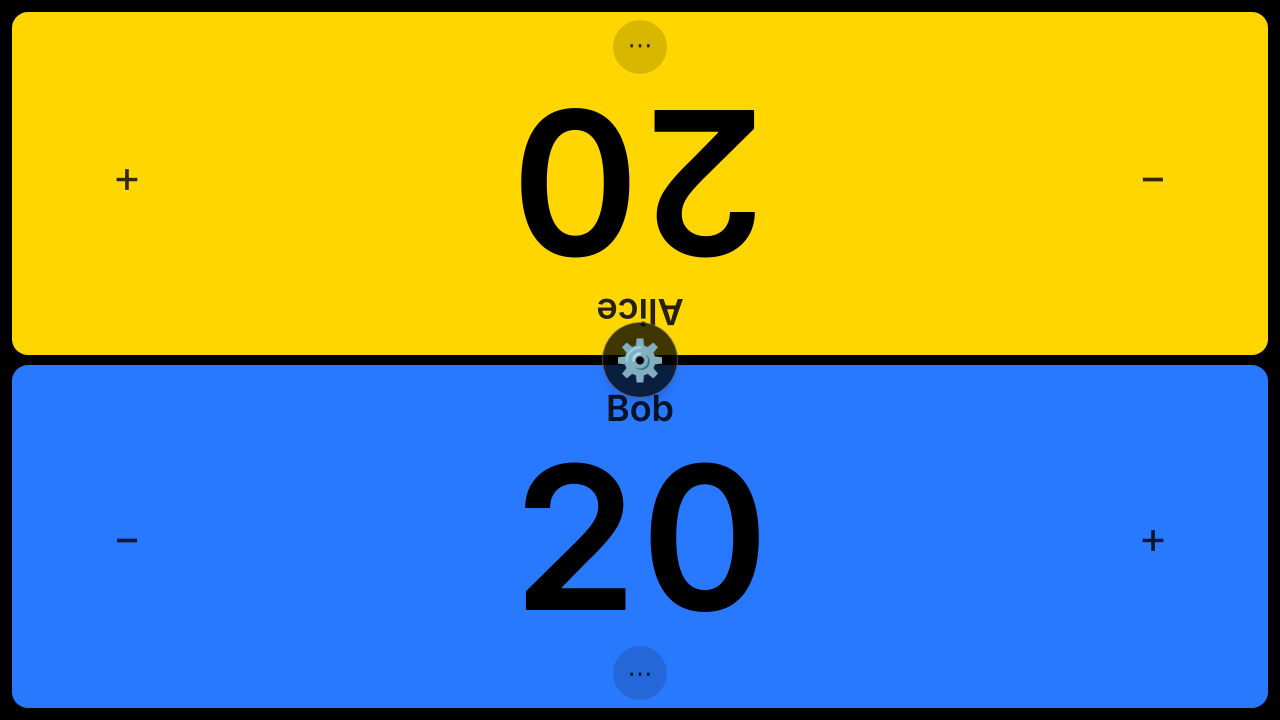
Scenario: LifeCounter › tells that a saved game stays as it was when quitting its edit
Click the button named "Opzioni di gioco". click: (640, 360)
box: [602,322,678,398]
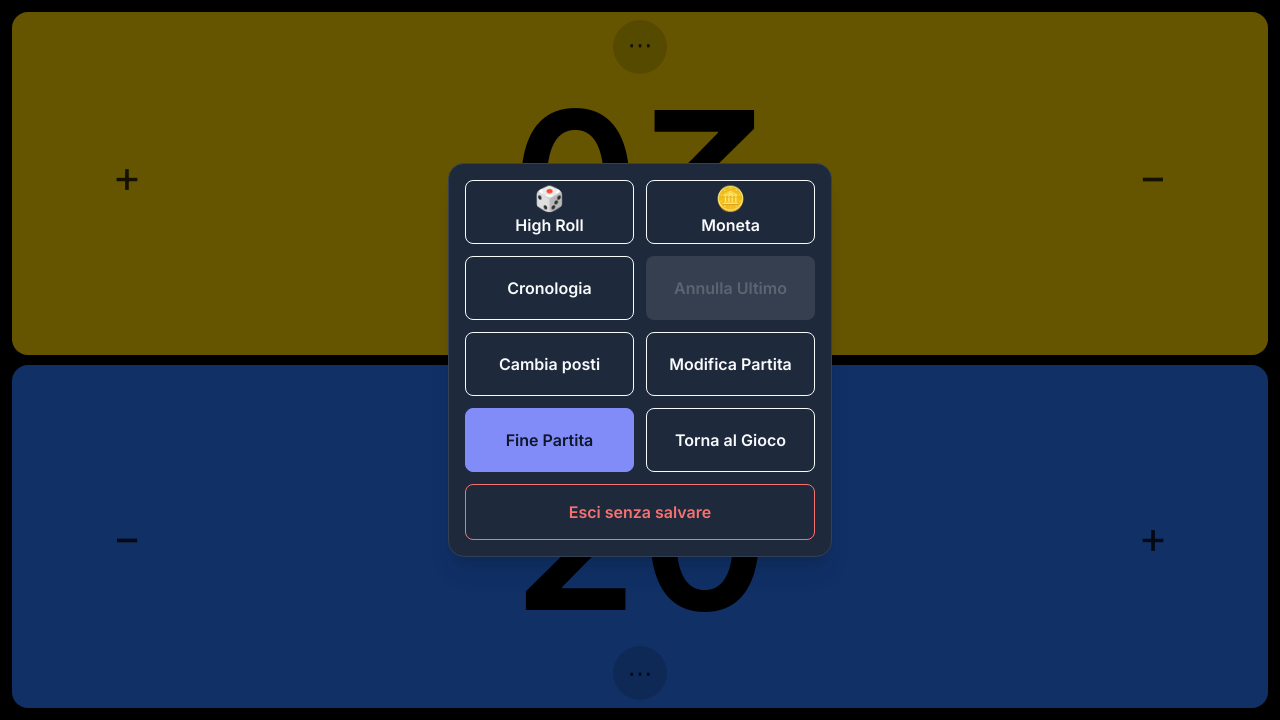
Click the button "Esci senza salvare". click: (640, 512)
box: [465,484,815,540]
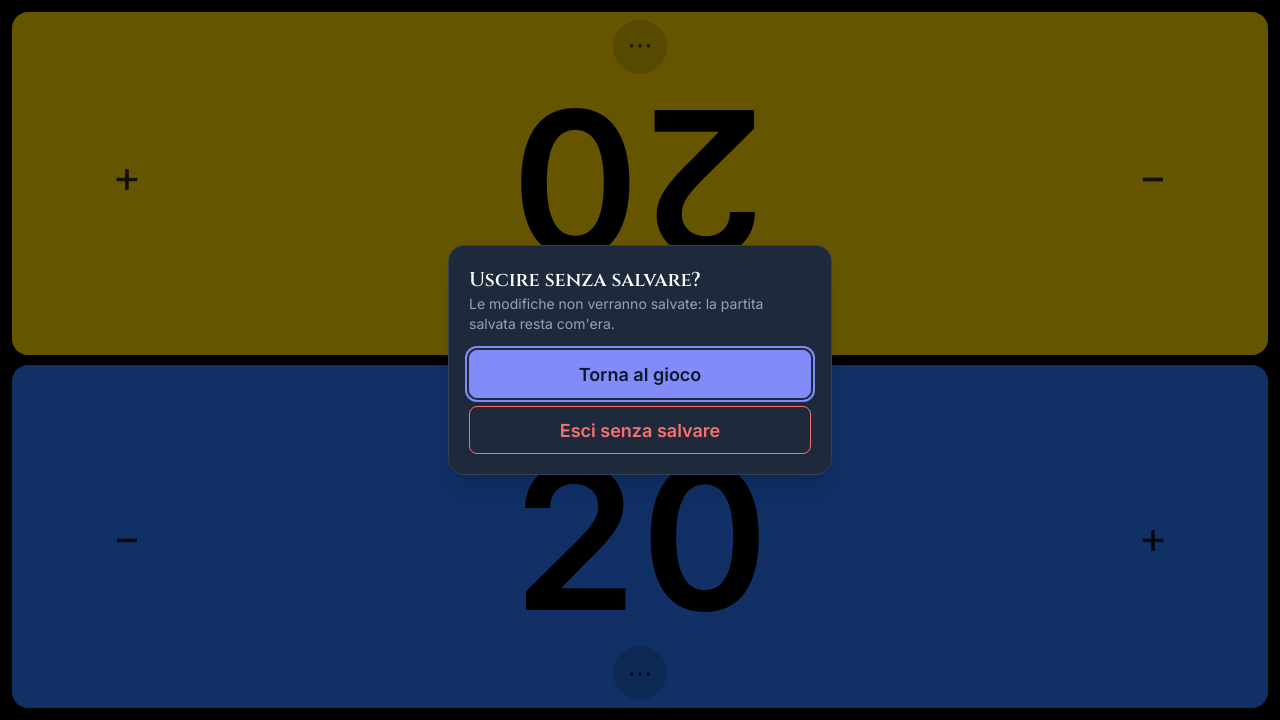
expect the dialog shows "la partita salvata resta com'era": met, box [469,295,763,332]
